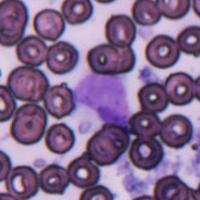M: (73, 72, 130, 125)
